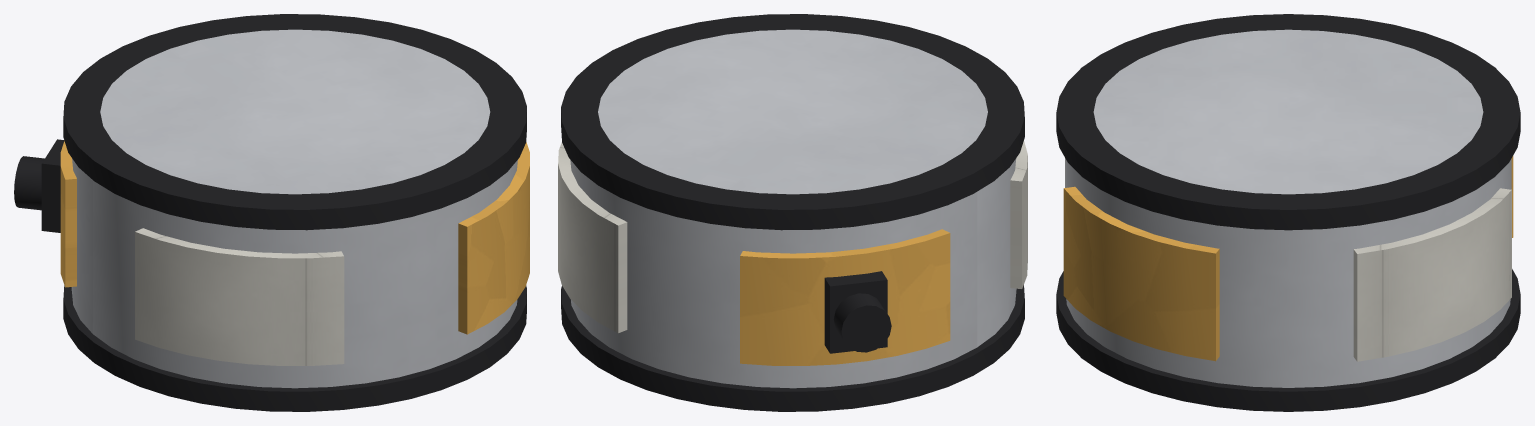
The model's file is cmd00_probe_core.glb.
The picture shows the model from 3 angles, left to right: view 1: azimuth 30°, elevation 25°; view 2: azimuth 150°, elevation 25°; view 3: azimuth 270°, elevation 25°; orthographic projection.
Parts seen in each view (by area): view 1: top_deck, stack_flanges, avionics_body, radiator_panels, mli_panels, star_tracker; view 2: top_deck, stack_flanges, avionics_body, mli_panels, radiator_panels, star_tracker; view 3: top_deck, stack_flanges, avionics_body, radiator_panels, mli_panels.
Boxes of the visible parts, x1=… form: top_deck: x1=100, y1=29, x2=490, y2=194; stack_flanges: x1=63, y1=14, x2=526, y2=411; avionics_body: x1=71, y1=158, x2=517, y2=388; radiator_panels: x1=135, y1=228, x2=344, y2=365; mli_panels: x1=60, y1=141, x2=529, y2=334; star_tracker: x1=14, y1=139, x2=64, y2=232; top_deck: x1=598, y1=29, x2=987, y2=194; stack_flanges: x1=561, y1=14, x2=1024, y2=411; avionics_body: x1=570, y1=158, x2=1016, y2=388; mli_panels: x1=740, y1=229, x2=950, y2=365; radiator_panels: x1=558, y1=141, x2=1027, y2=333; star_tracker: x1=824, y1=271, x2=891, y2=353; top_deck: x1=1093, y1=29, x2=1483, y2=194; stack_flanges: x1=1056, y1=14, x2=1520, y2=411; avionics_body: x1=1065, y1=158, x2=1511, y2=387; radiator_panels: x1=1065, y1=158, x2=1511, y2=361; mli_panels: x1=1063, y1=156, x2=1513, y2=361.
Bounding box in the file's own units: 0.625 × 0.3 × 0.625.
Materials: 4 (3 with a texture image).
